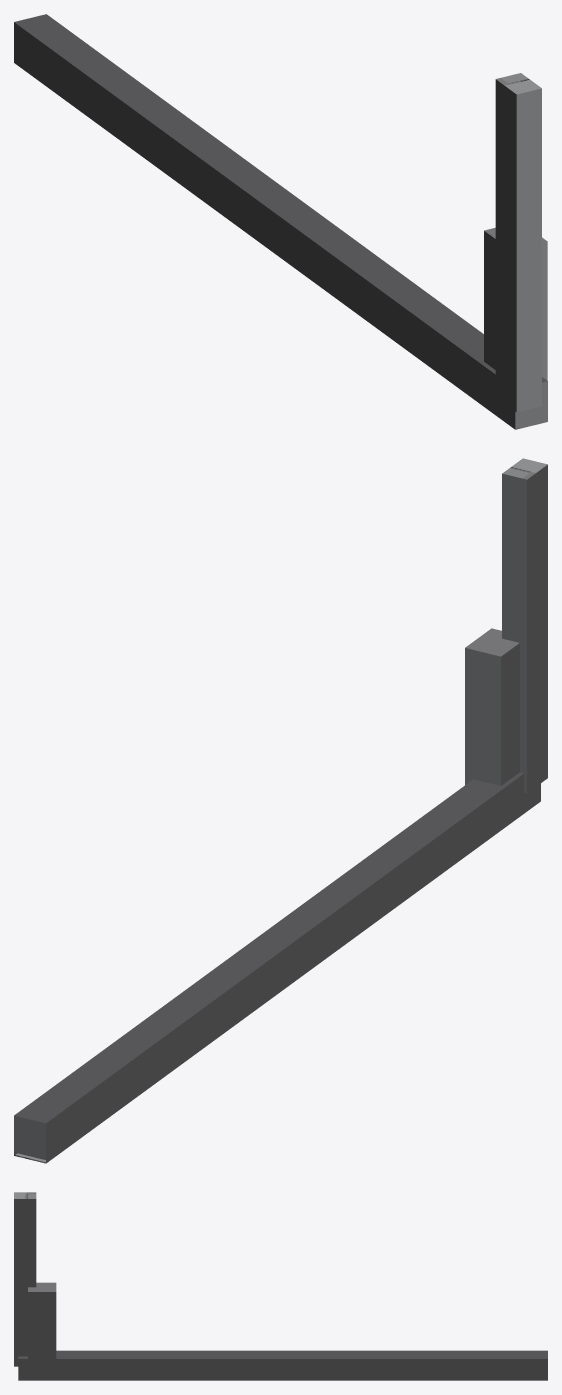
The picture shows the model from 3 angles, top to bottom: view 1: azimuth 30°, elevation 25°; view 2: azimuth 150°, elevation 25°; view 3: azimuth 270°, elevation 25°; orthographic projection. The views are drawn at different scales.
Bounding box in the file's own units: 0.1215 × 0.8958 × 2.42.
